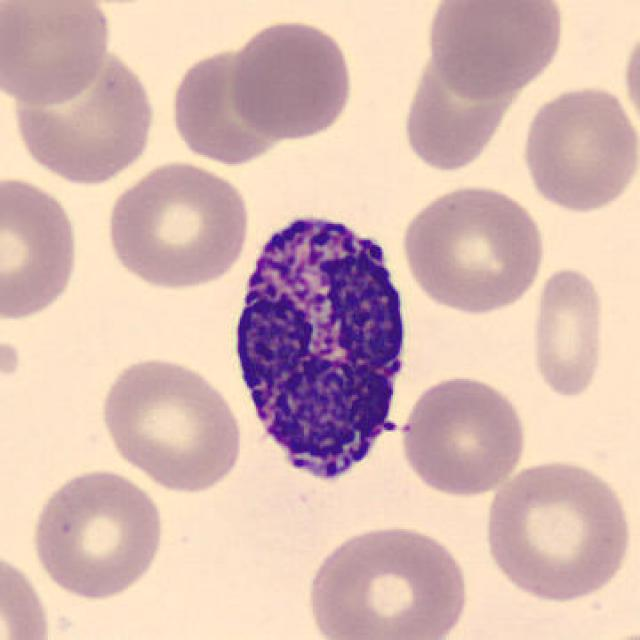Basophil: (222, 196, 418, 504)
RBC: (478, 453, 635, 605), (5, 37, 160, 187), (96, 352, 247, 493), (302, 520, 475, 640), (397, 180, 548, 317), (102, 157, 255, 291), (27, 465, 167, 603), (396, 370, 530, 499), (402, 34, 526, 172), (224, 16, 357, 143), (518, 81, 638, 215), (421, 0, 568, 102), (171, 45, 288, 171), (0, 171, 84, 323), (0, 0, 116, 108), (526, 263, 610, 402), (0, 545, 55, 640), (620, 18, 640, 139), (578, 620, 640, 640)
